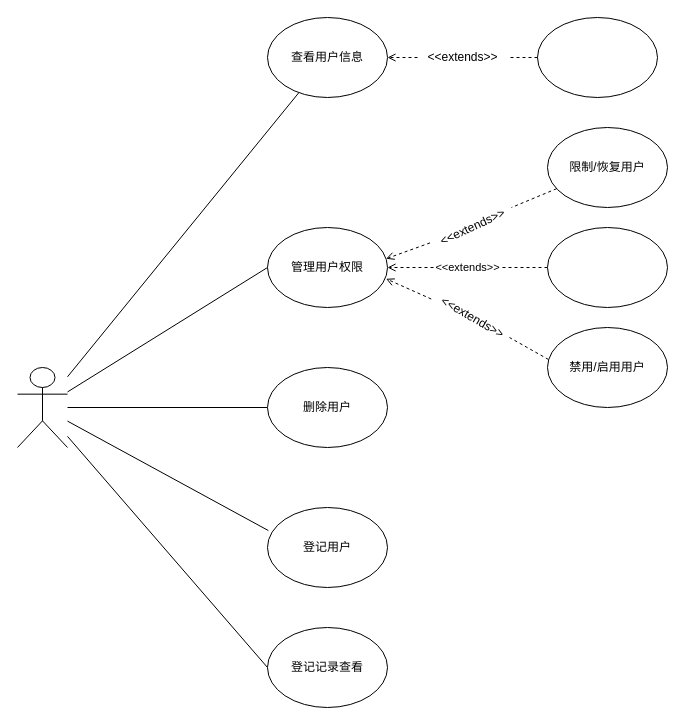
Image size: 685x725. Some labels were removed from this diagram. Each missing label, with the box of its shape:
强制下线: (546, 226, 668, 308)
查看被举报信息: (536, 16, 658, 98)
用户管理: (16, 366, 68, 448)
